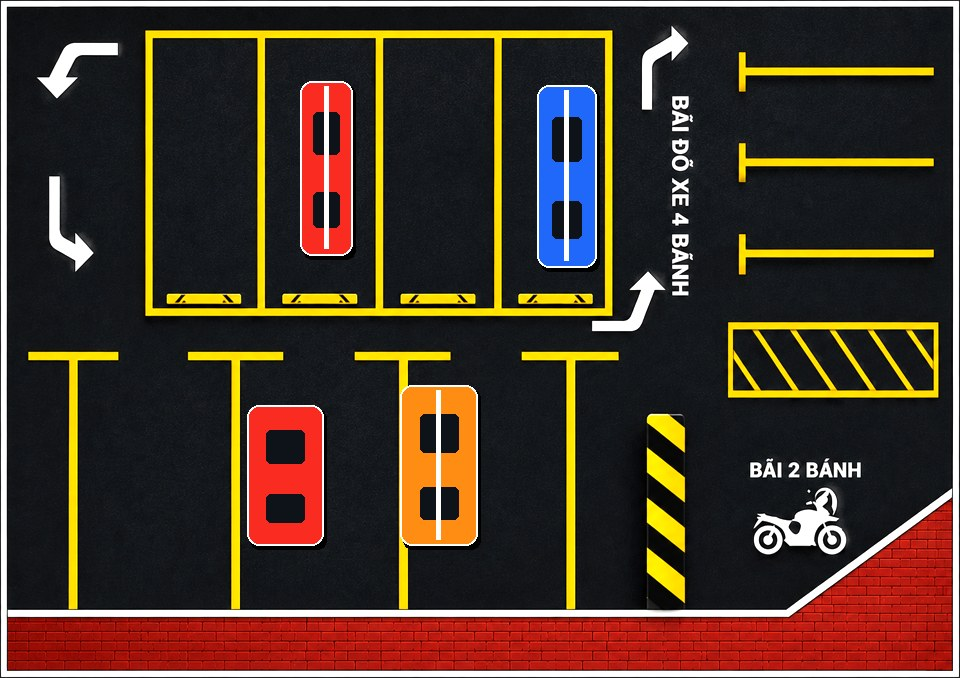empty: (35, 351, 199, 598), (524, 351, 672, 598), (148, 35, 267, 309), (386, 35, 505, 309)
occupied: (360, 351, 518, 598), (201, 351, 357, 598), (267, 35, 386, 309), (505, 35, 624, 309)
